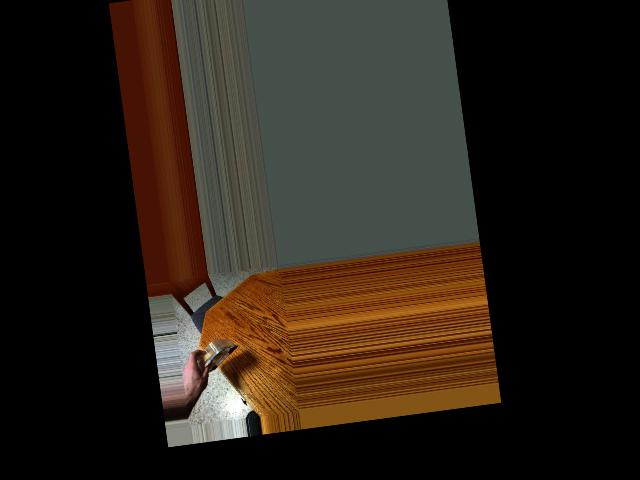cheese: (188, 331, 238, 389)
